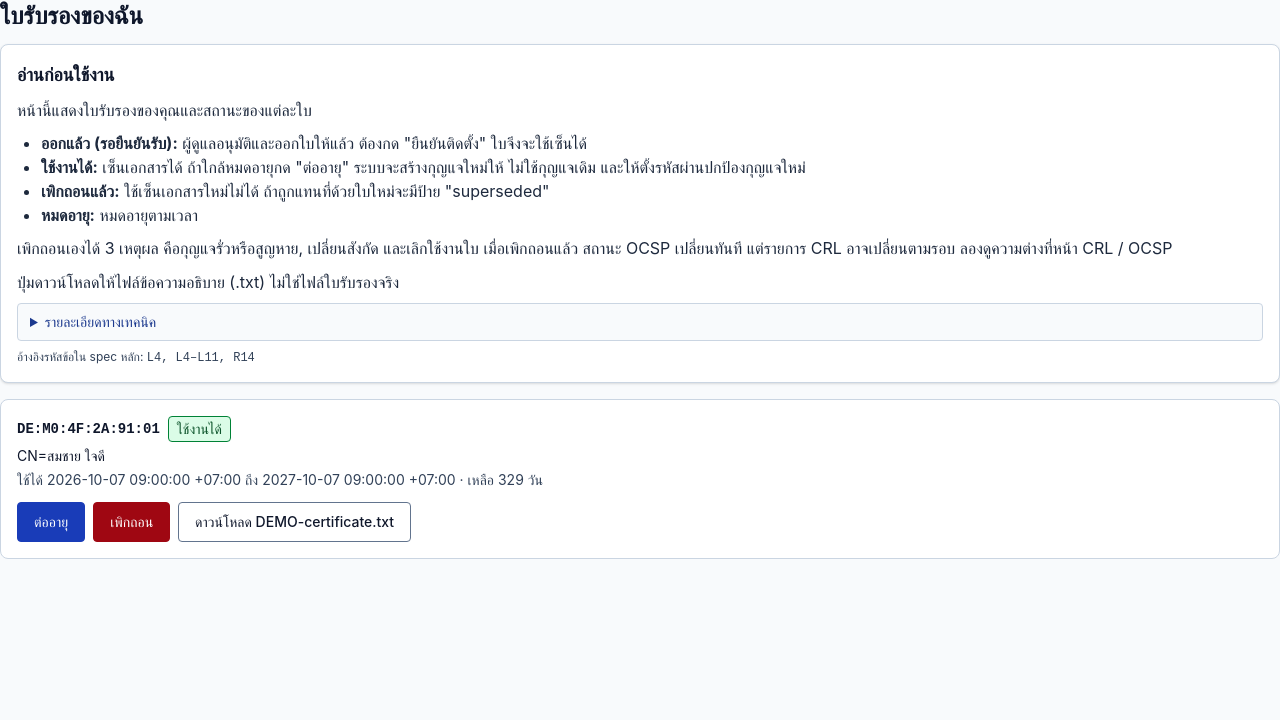
Test: /certs › self-revocation offers exactly the 3 user reasons, no invalidity date, and sends no MFA
Click the button "เพิกถอน" at [132, 522], box [93,502,170,542]
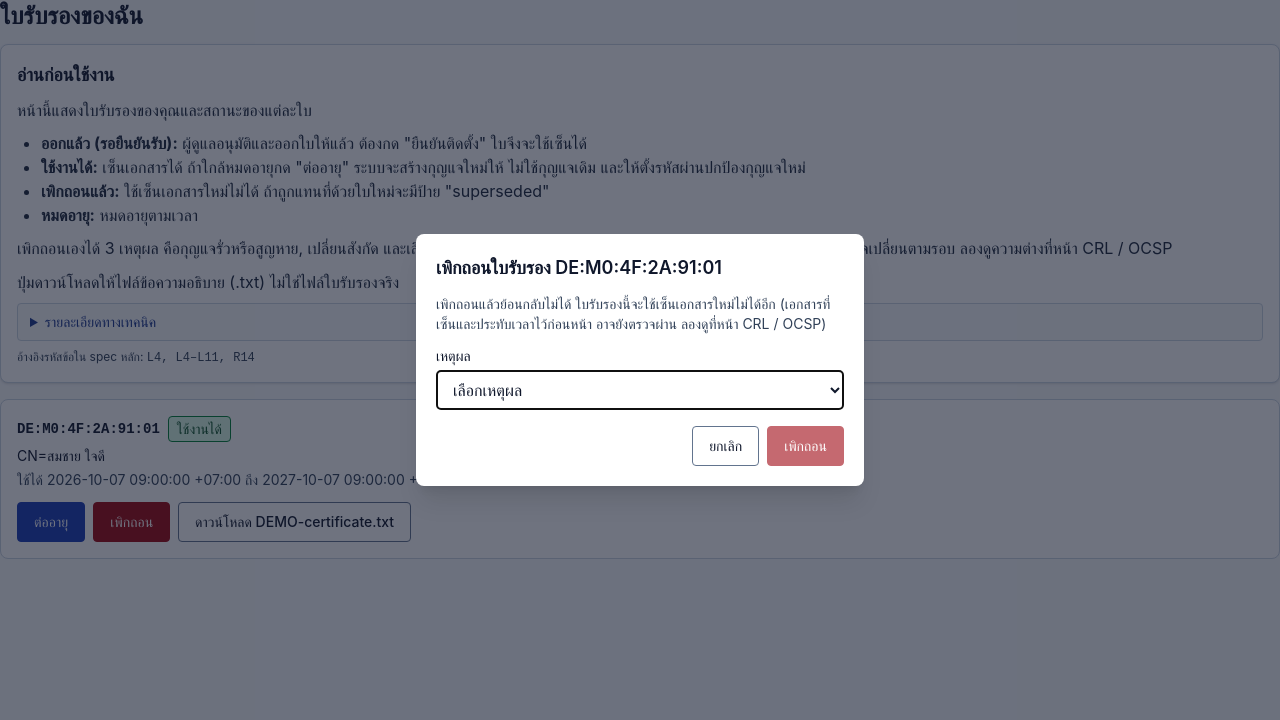
Result: the button with test id "certs-revoke-submit" is disabled at [767,426,844,466]
Select "เลิกใช้งานใบรับรอง (cessationOfOperation)" in the dropdown with test id "certs-revoke-reason" at [640, 390], box [436,370,844,410]
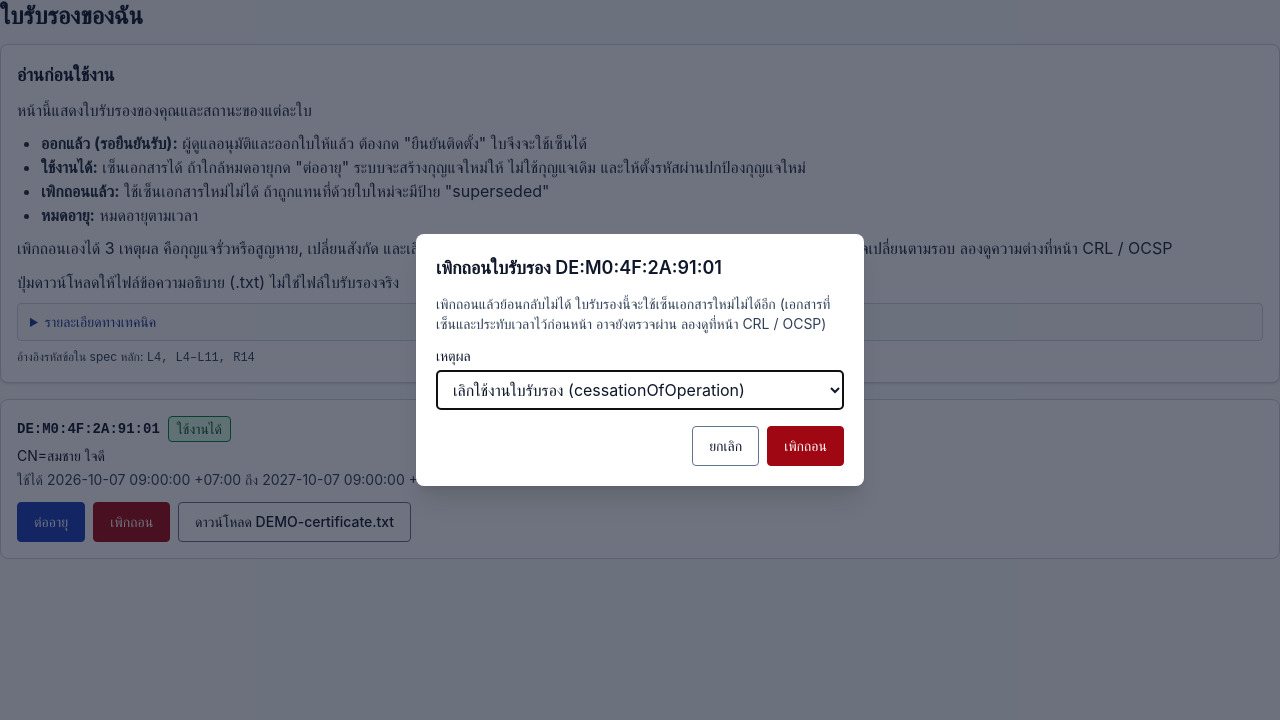
Click the button with test id "certs-revoke-submit" at [806, 446], box [767,426,844,466]
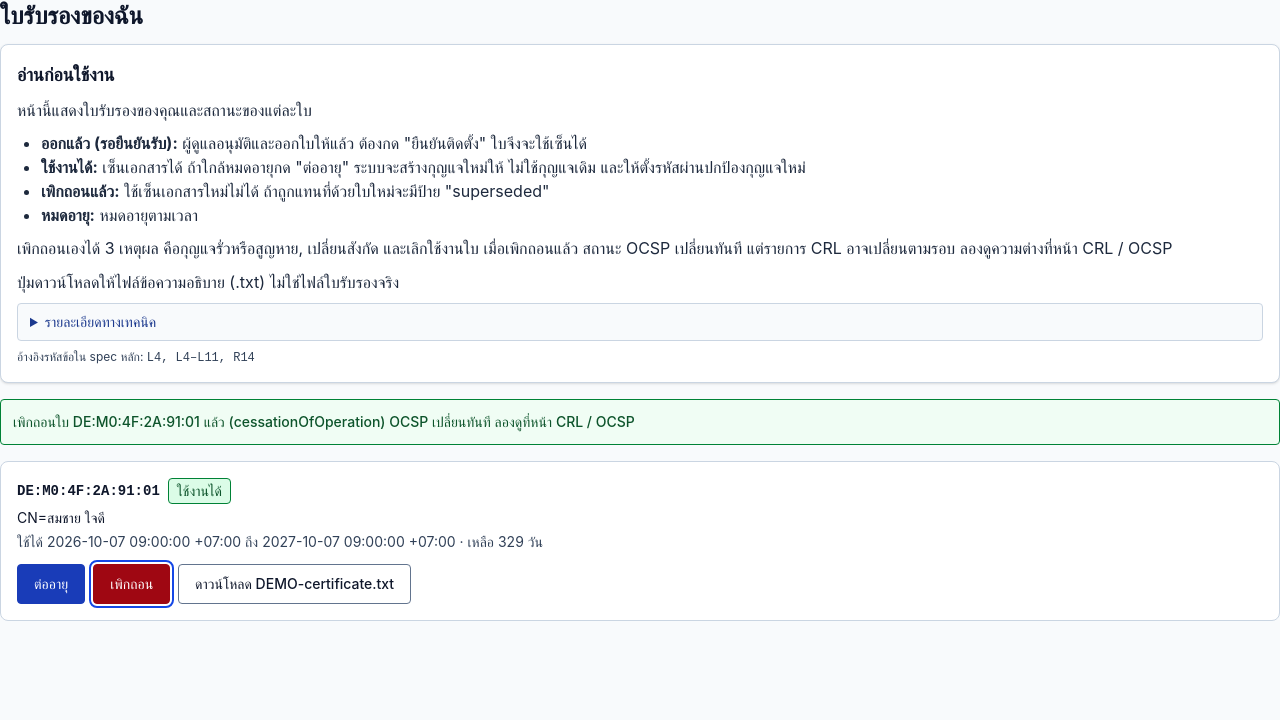
Result: the text "เพิกถอนใบ DE:M0:4F:2A:91:01 แล้ว" is shown at [13,413,635,430]
